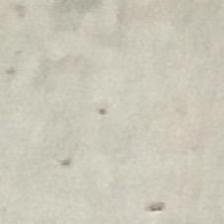Non_Crack: (8, 5, 224, 224)
